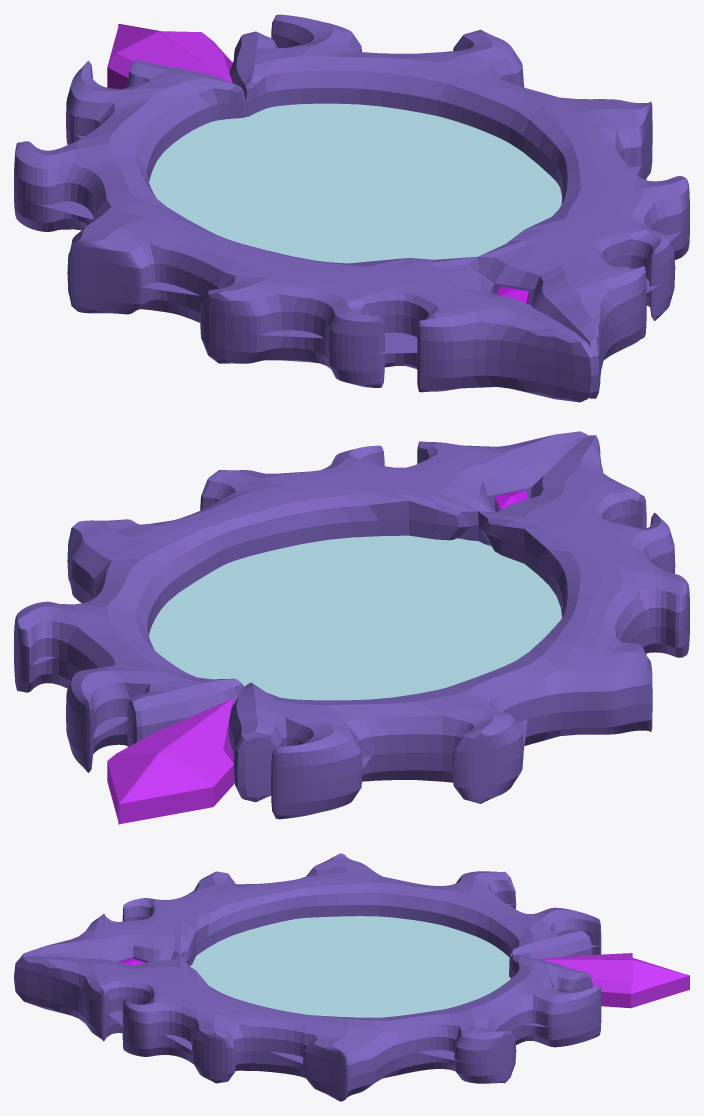
File: Зеркало.fbx
3 renders of one model, top to bottom at view 1: azimuth 30°, elevation 25°; view 2: azimuth 150°, elevation 25°; view 3: azimuth 270°, elevation 25°, orthographic. The views are drawn at different scales.
Visible parts, largest first — view 1: Плоскость, Плоскость.001; view 2: Плоскость, Плоскость.001; view 3: Плоскость, Плоскость.001.
Boxes of the visible parts, <box> form: Плоскость: <box>14,14,689,402</box>; Плоскость.001: <box>107,24,232,88</box>; Плоскость: <box>14,431,689,819</box>; Плоскость.001: <box>107,698,234,824</box>; Плоскость: <box>14,853,601,1101</box>; Плоскость.001: <box>537,953,689,1008</box>.
Bounding box in the file's own units: 333 × 40.98 × 471.
